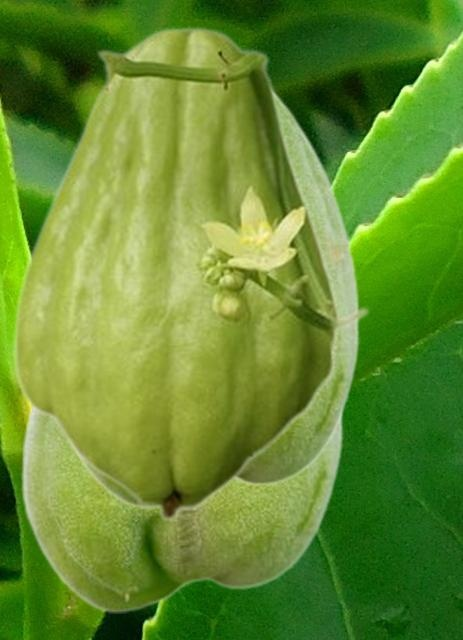sayote: (11, 26, 370, 521), (68, 92, 359, 507), (19, 407, 343, 612)
